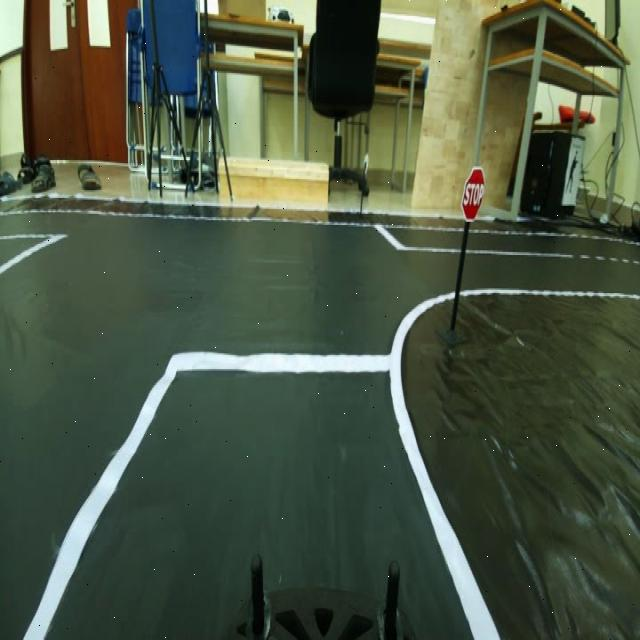stop: (457, 159, 491, 232)
